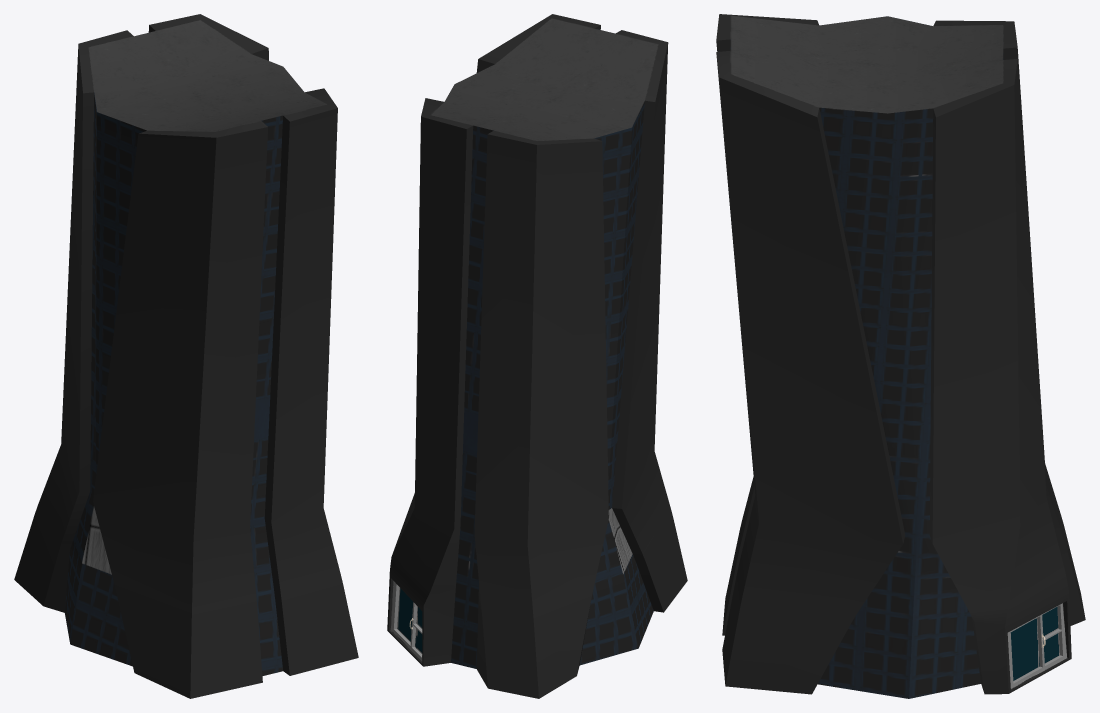
Rendered from Bat_Joliette_3.1.fbx.
3 views of the same model, side by side, from view 1: azimuth 30°, elevation 25°; view 2: azimuth 150°, elevation 25°; view 3: azimuth 270°, elevation 25° (orthographic). The views are drawn at different scales.
Parts seen in each view (by area): view 1: Bat_Joliette_3.1; view 2: Bat_Joliette_3.1; view 3: Bat_Joliette_3.1.
Boxes of the visible parts, left/top/right/bottom form: Bat_Joliette_3.1: left=14, top=14, right=358, bottom=698; Bat_Joliette_3.1: left=387, top=14, right=687, bottom=698; Bat_Joliette_3.1: left=716, top=14, right=1085, bottom=698.
Bounding box in the file's own units: 1611 × 3793 × 2123.
